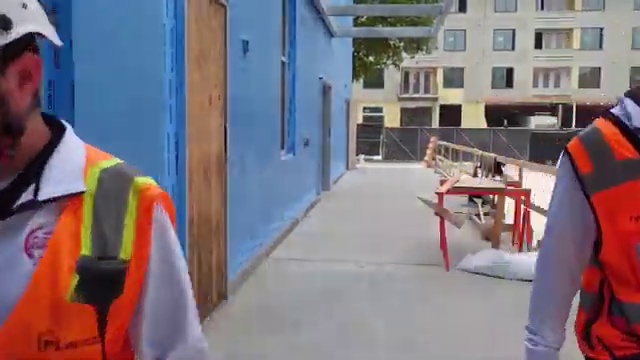jacket: (1, 137, 194, 360), (559, 113, 640, 360)
